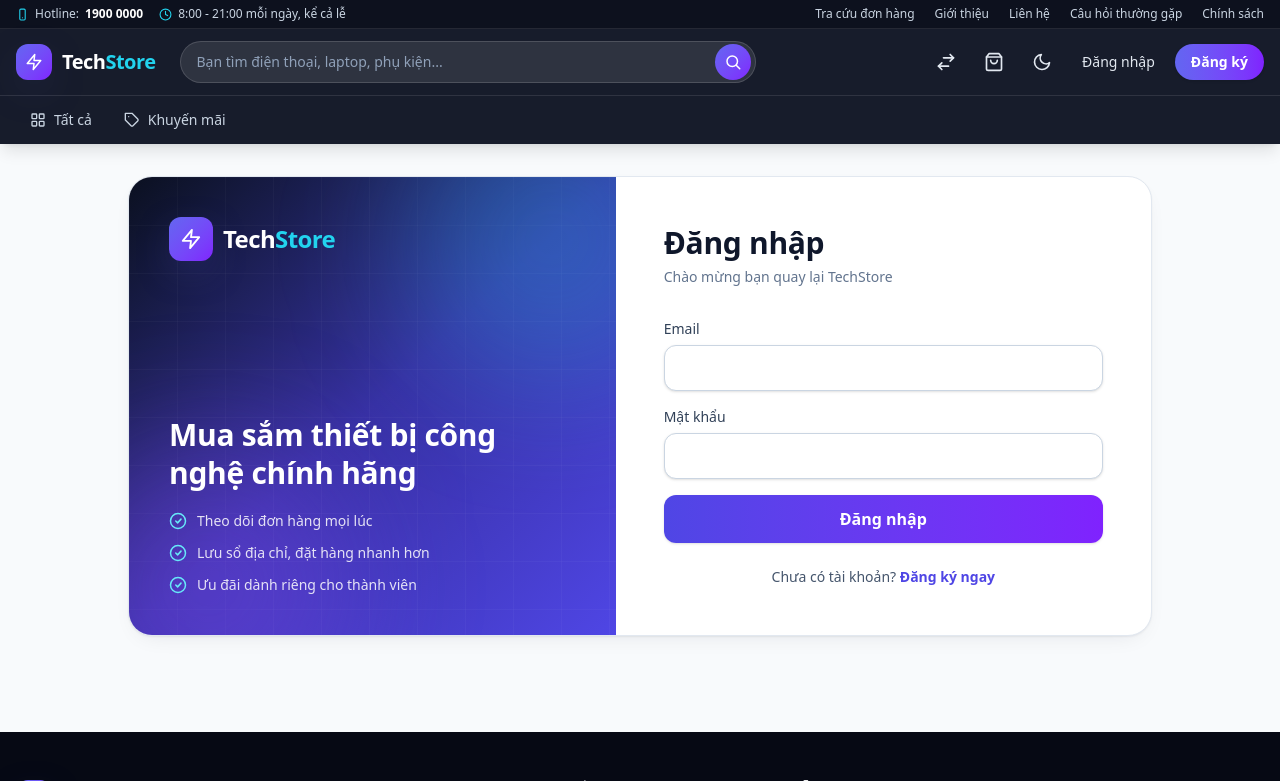
Test: Trang yêu cầu đăng nhập (US-14 AC1) › đăng nhập xong quay lại đúng trang đang định vào
Type "khach@example.com" into the field labelled "Email" at (883, 368), box x1=664 y1=345 x2=1103 y2=391
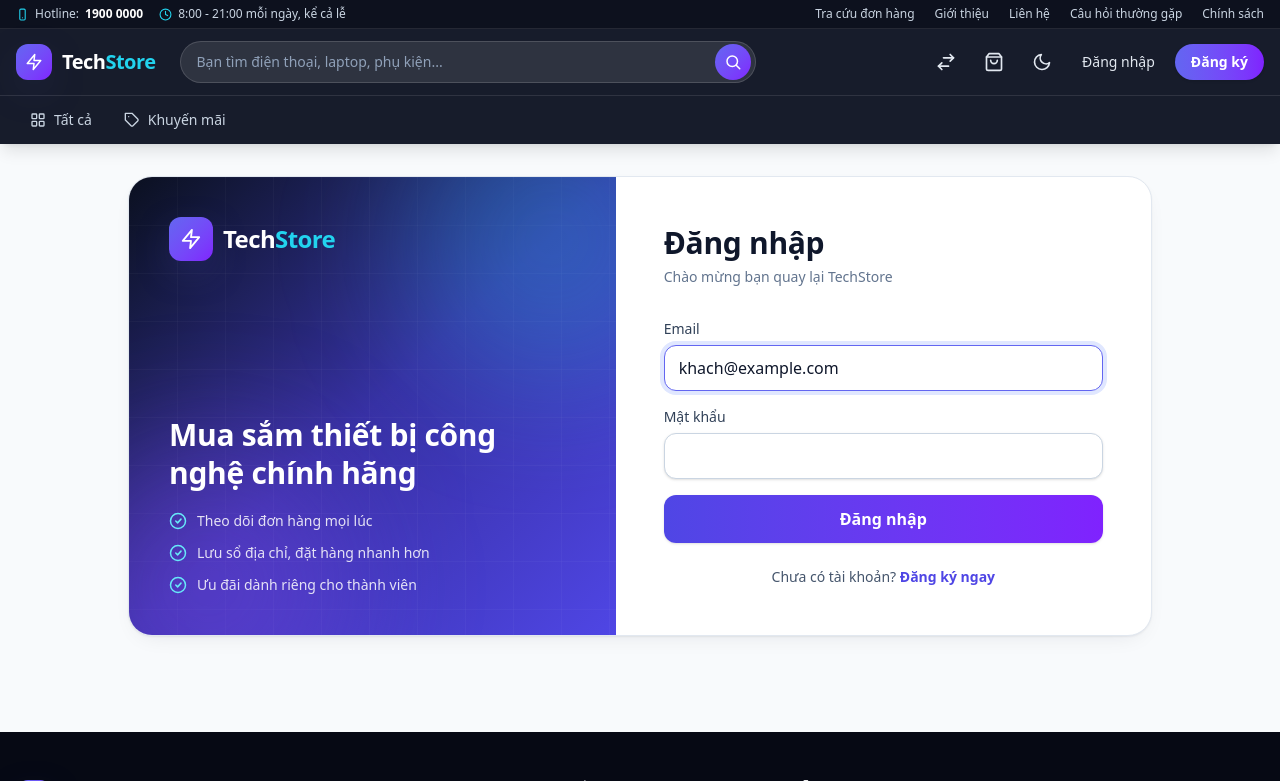
Type "Matkhau123" into the password field labelled "Mật khẩu" at (883, 456), box x1=664 y1=433 x2=1103 y2=479
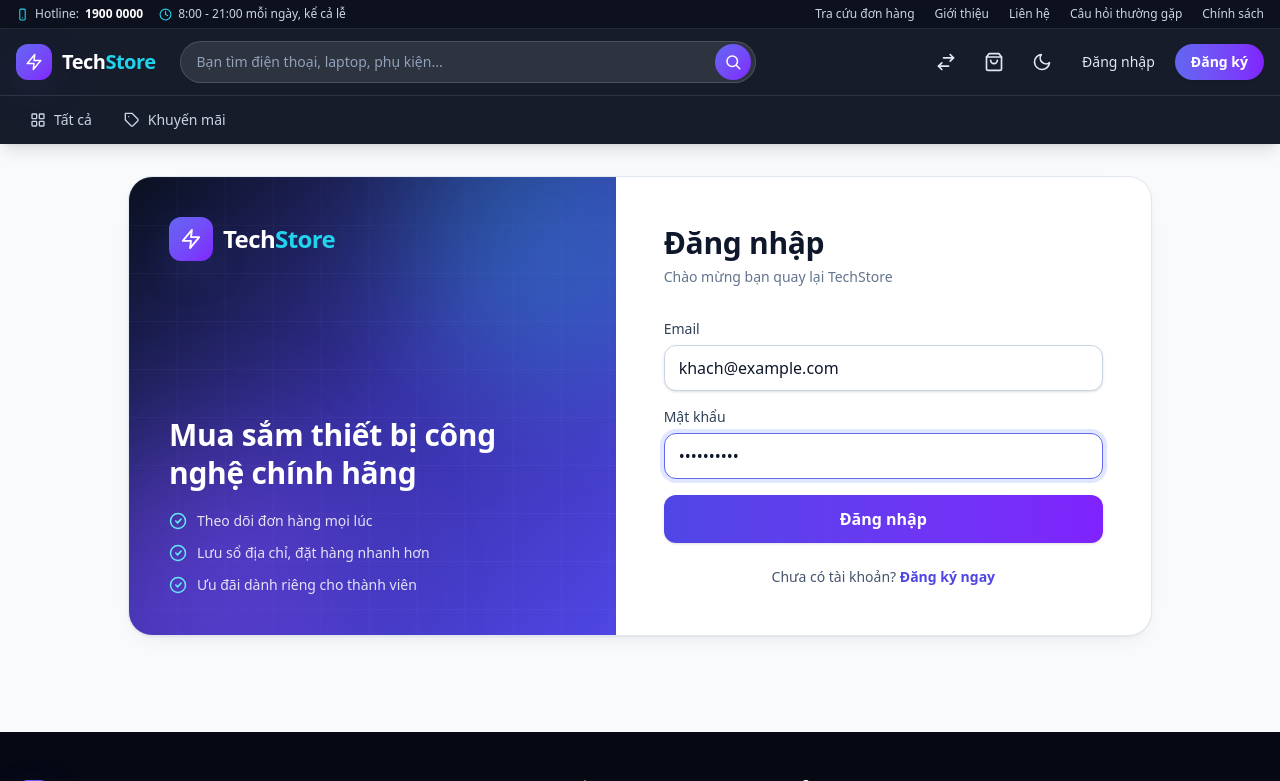
Click the button "Đăng nhập" at (883, 519), box x1=664 y1=495 x2=1103 y2=543
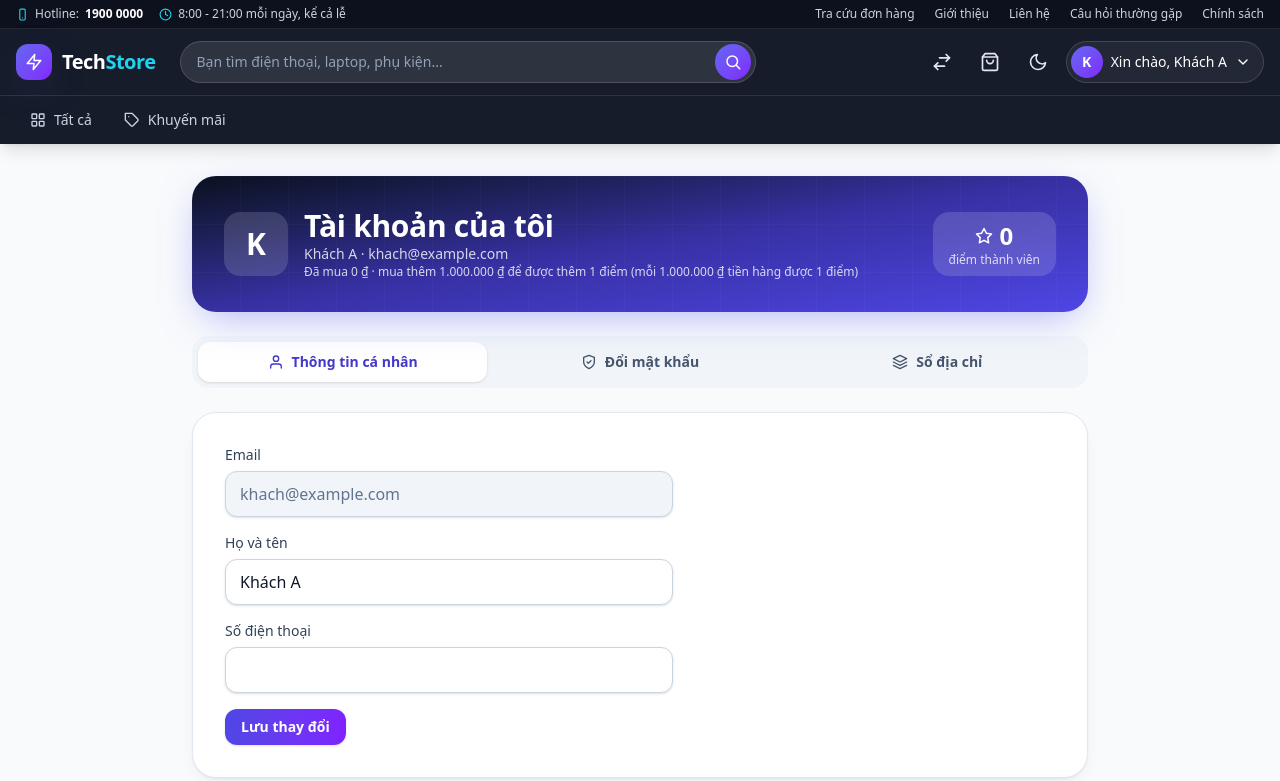
Result: the heading "Tài khoản của tôi" is shown at x1=304 y1=205 x2=554 y2=246
